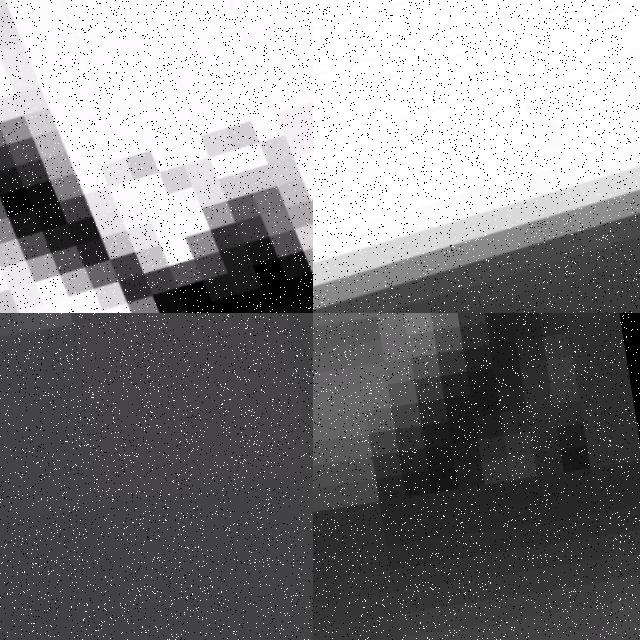0: (0, 0, 313, 313)
drone: (313, 0, 640, 313)
